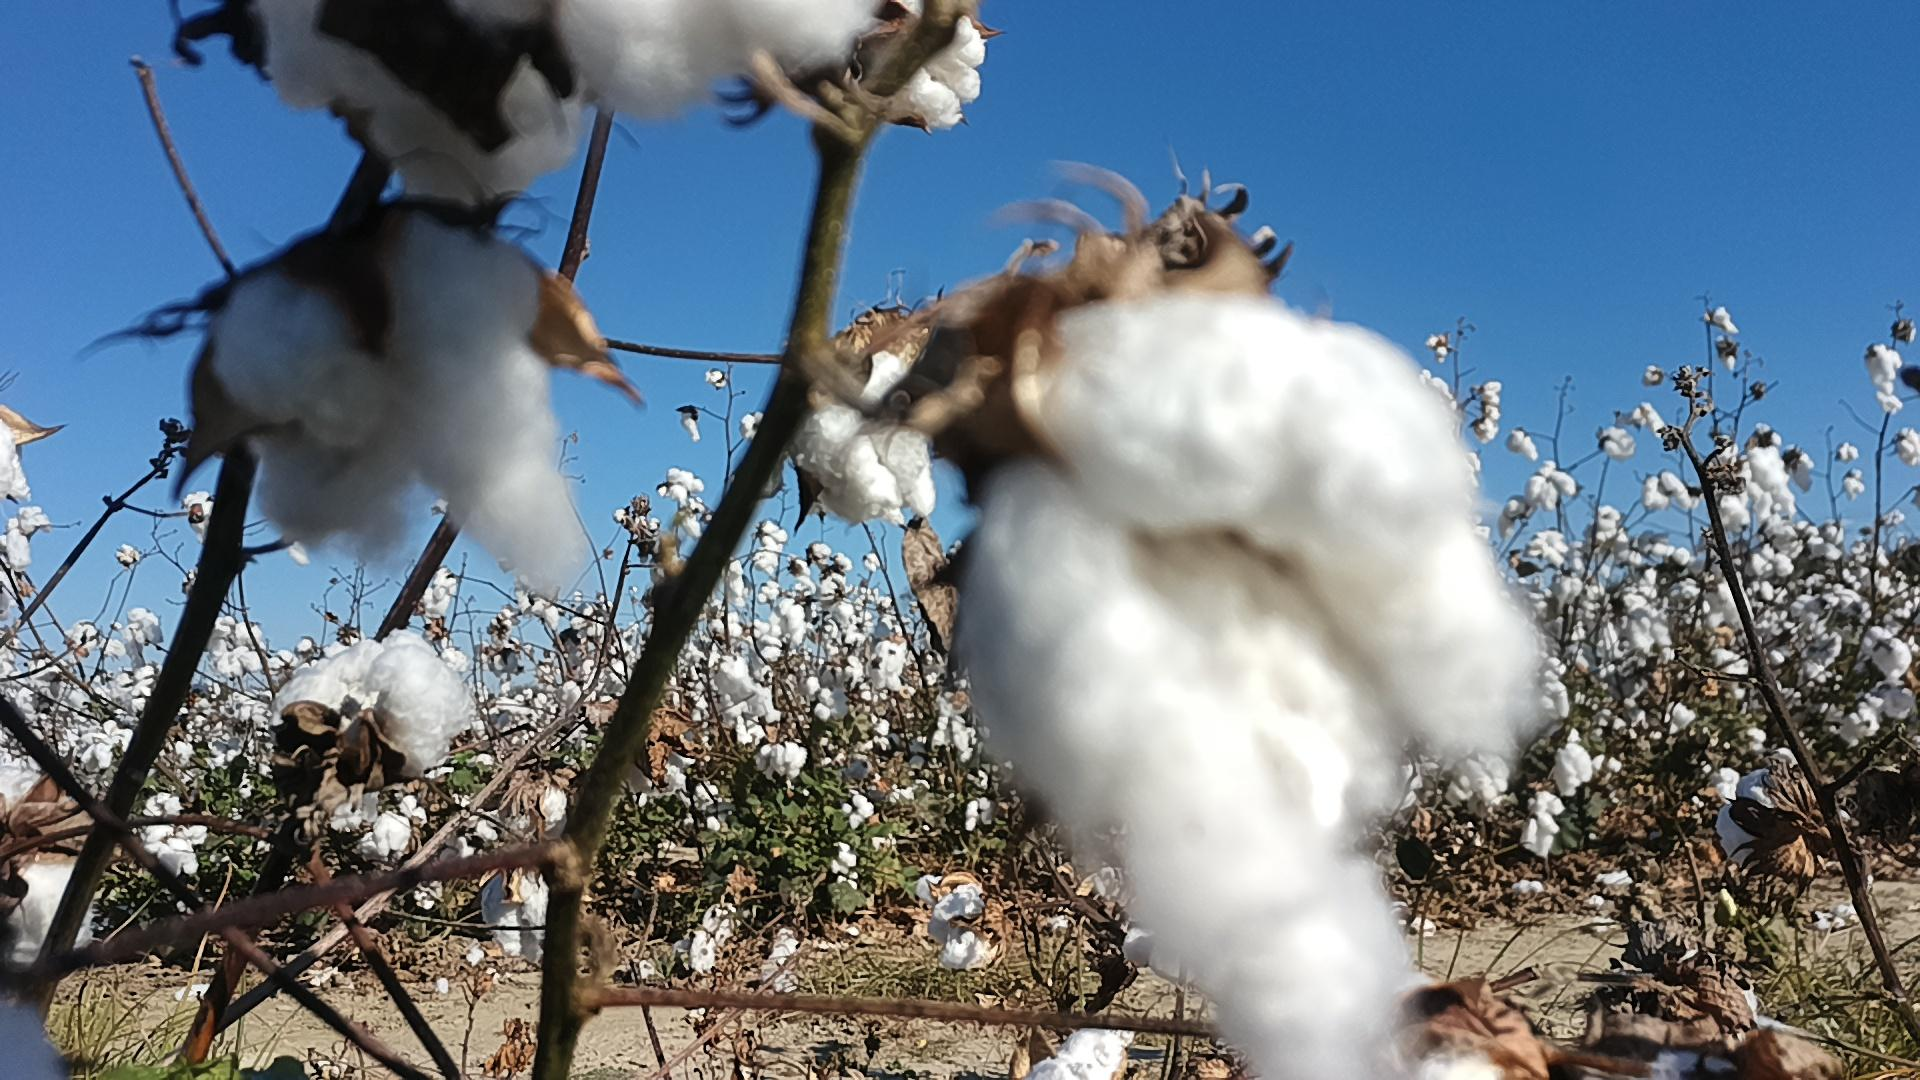cotton_ready: (956, 295, 1542, 1080), (212, 214, 585, 596), (551, 0, 878, 120), (258, 0, 535, 116), (372, 63, 578, 214), (282, 636, 477, 771), (791, 351, 938, 526), (848, 0, 988, 136), (1387, 968, 1510, 1080), (0, 861, 96, 969), (1713, 775, 1791, 881), (1569, 1051, 1797, 1080), (1113, 920, 1205, 989), (1026, 1021, 1130, 1080), (0, 998, 75, 1080), (932, 889, 998, 976), (483, 870, 550, 955), (498, 775, 564, 843), (0, 417, 36, 505), (0, 764, 55, 820)
